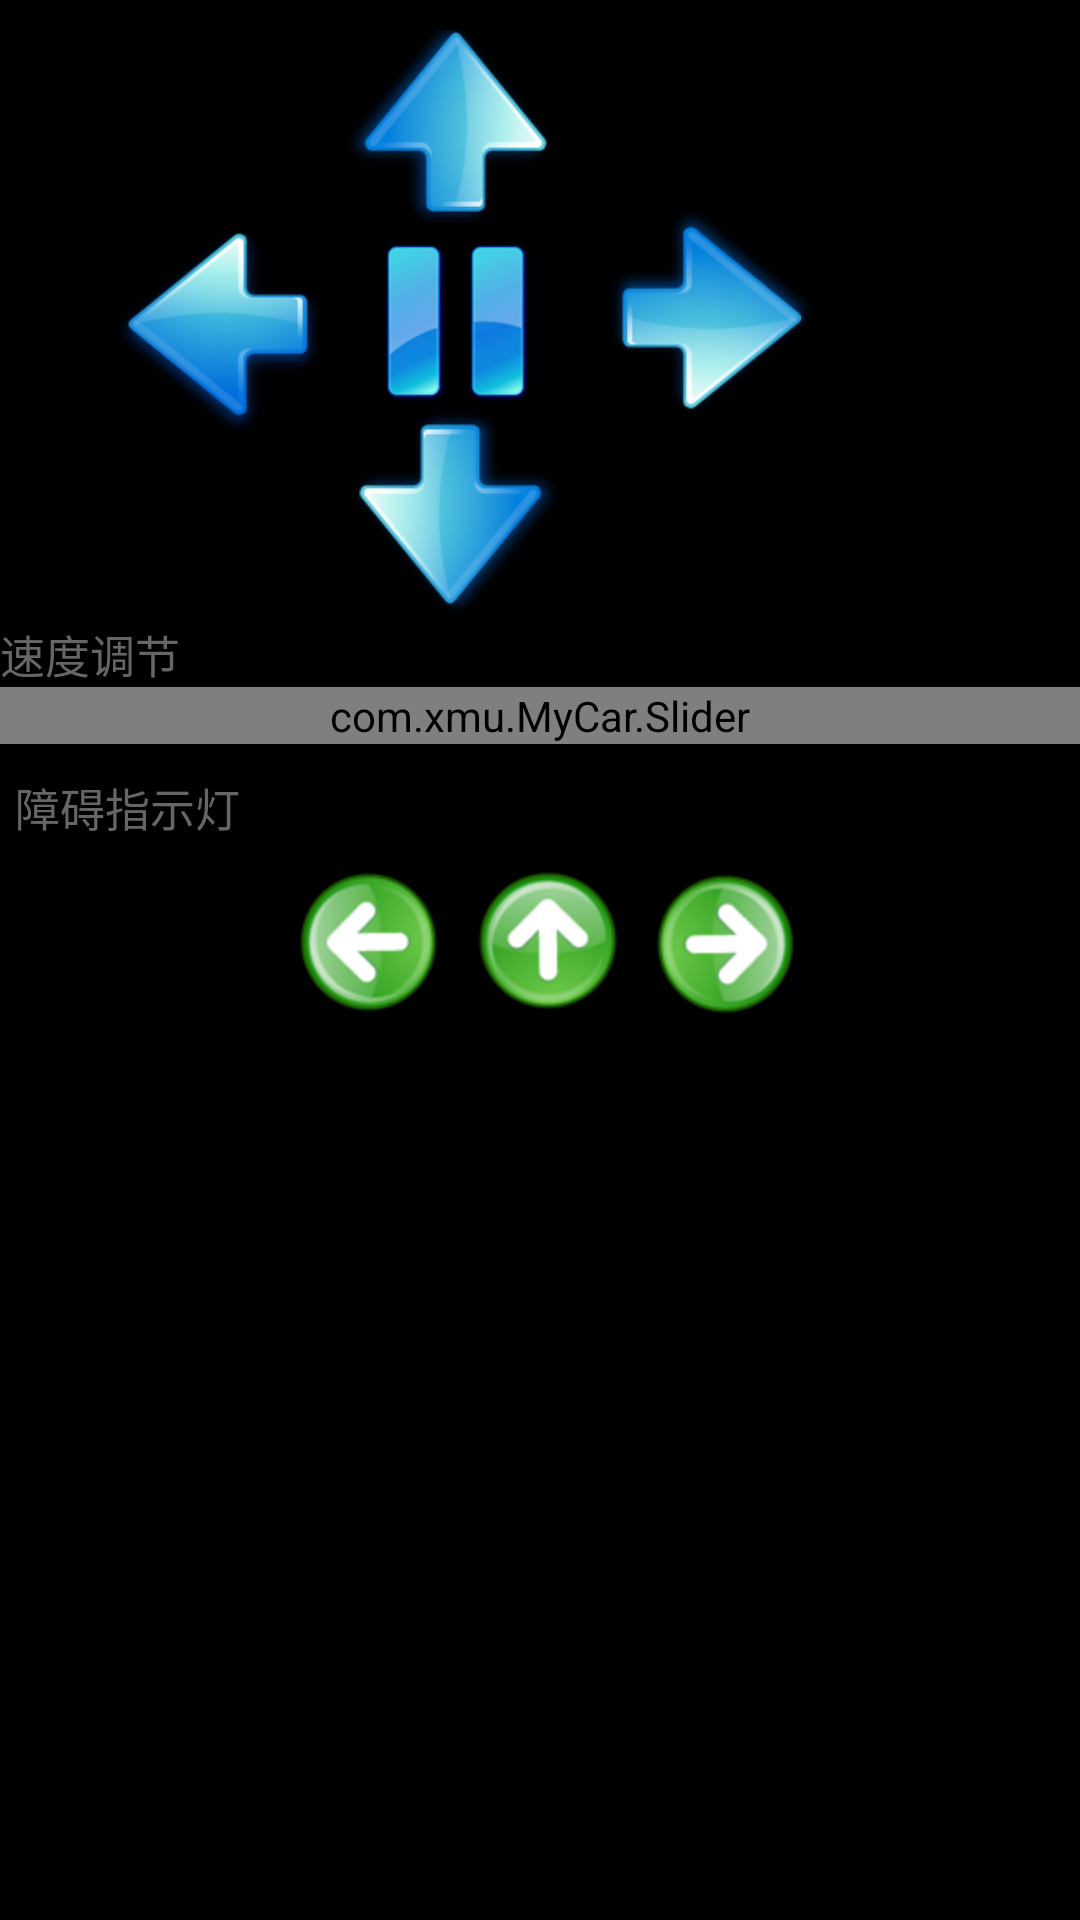

Icons on this 1080×1920 Android screen, each with the point to tap as (x,y):
indicator left off noglow: (368,942)
indicator middle off noglow: (548,940)
indicator right off noglow: (725,944)
